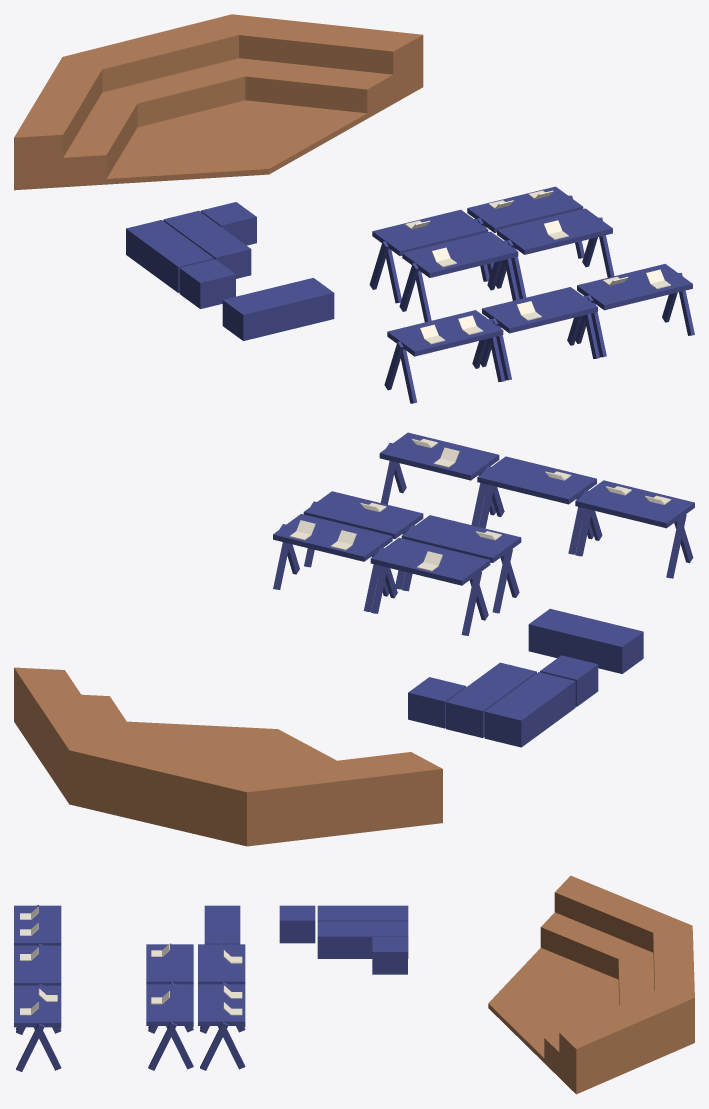
The model's file is 082_学生体験.glb.
The picture shows the model from 3 angles, top to bottom: view 1: azimuth 30°, elevation 25°; view 2: azimuth 150°, elevation 25°; view 3: azimuth 270°, elevation 25°; orthographic projection. The views are drawn at different scales.
Parts seen in each view (by area): view 1: 立方体050_1, 立方体050, 立方体050_2; view 2: 立方体050, 立方体050_1, 立方体050_2; view 3: 立方体050_1, 立方体050, 立方体050_2.
Boxes of the visible parts, left/top/right/bottom form: 立方体050_1: left=14, top=14, right=423, bottom=190; 立方体050: left=126, top=186, right=694, bottom=403; 立方体050_2: left=405, top=190, right=670, bottom=344; 立方体050: left=273, top=432, right=694, bottom=747; 立方体050_1: left=14, top=667, right=442, bottom=846; 立方体050_2: left=289, top=439, right=671, bottom=571; 立方体050_1: left=488, top=875, right=694, bottom=1094; 立方体050: left=14, top=905, right=408, bottom=1071; 立方体050_2: left=20, top=907, right=242, bottom=1015.
Bounding box in the file's own units: 6.96 × 1.03 × 11.54.
